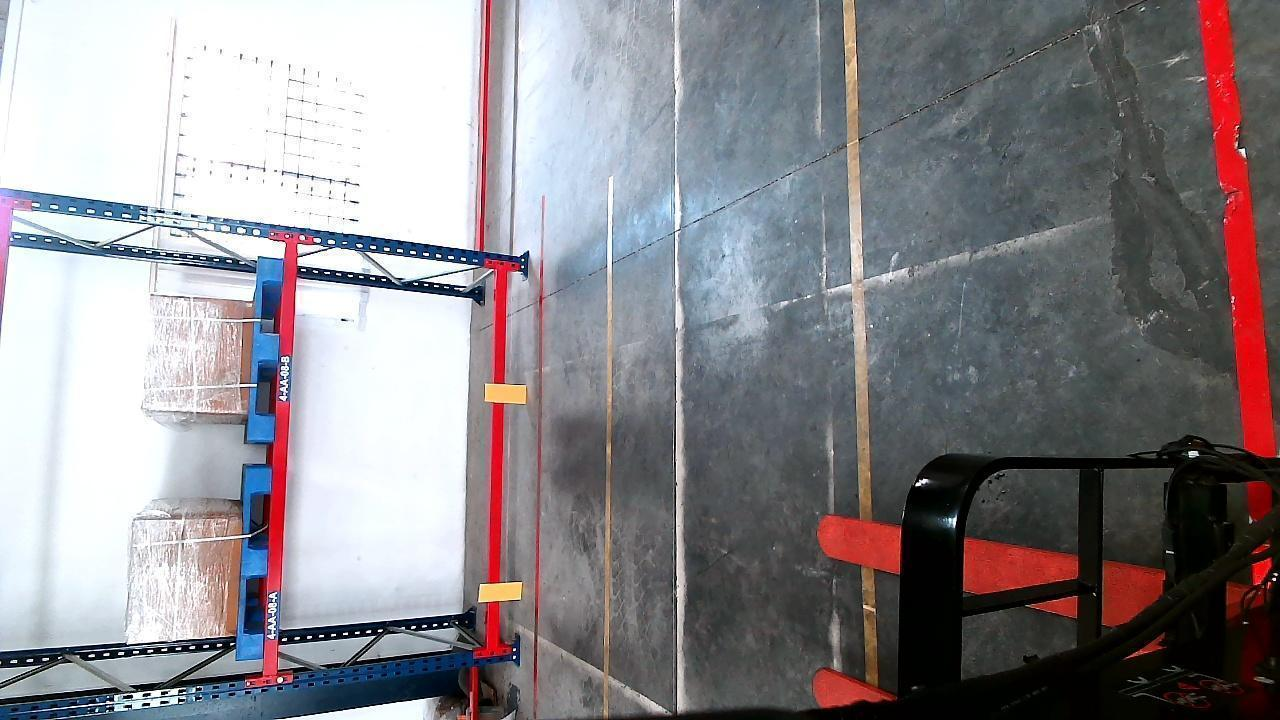red_line: (1195, 0, 1279, 458), (531, 196, 550, 714)
yellow_line: (836, 0, 881, 688), (597, 212, 622, 720)
